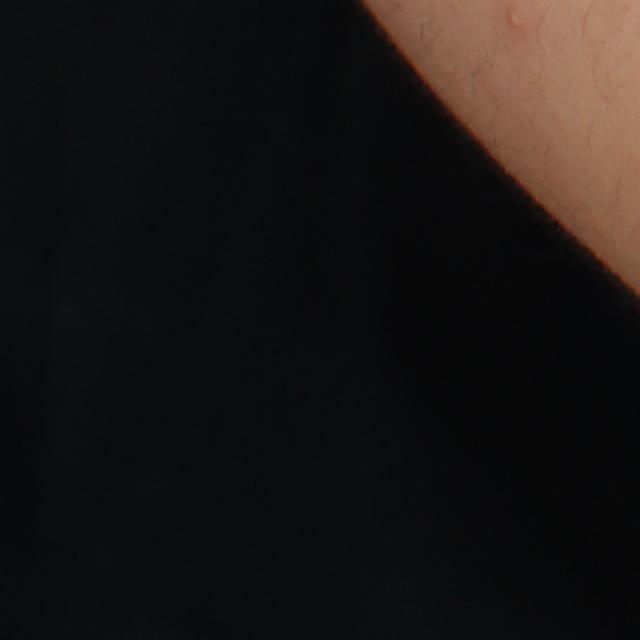papule: (506, 5, 530, 36)
